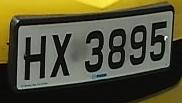3: (83, 26, 106, 76)
5: (149, 18, 170, 66)
8: (105, 23, 127, 74)
9: (128, 22, 149, 65)
H: (20, 29, 49, 83)
X: (48, 27, 74, 83)
